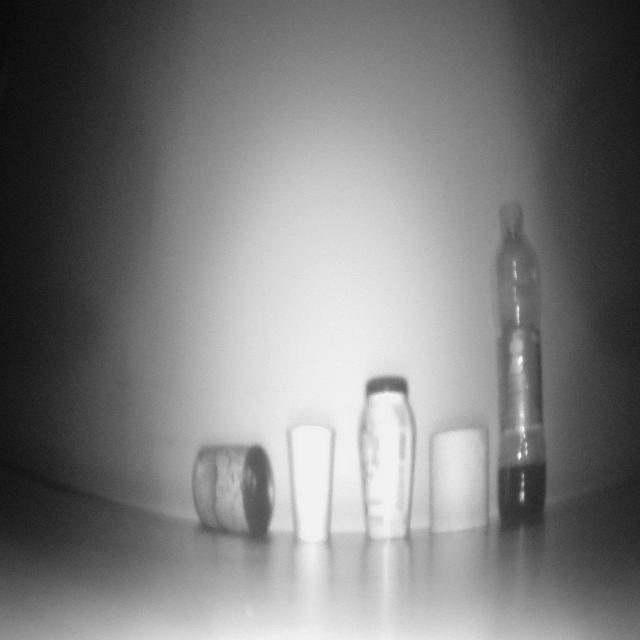targets: (498, 202, 545, 529), (357, 377, 416, 544), (192, 442, 274, 538), (431, 426, 489, 538), (286, 421, 333, 550)
